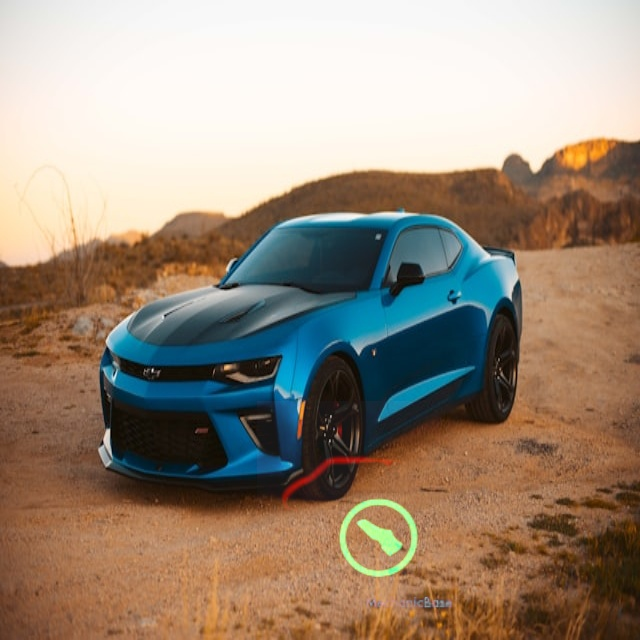symbol: (257, 401, 440, 584), (306, 463, 458, 615)
